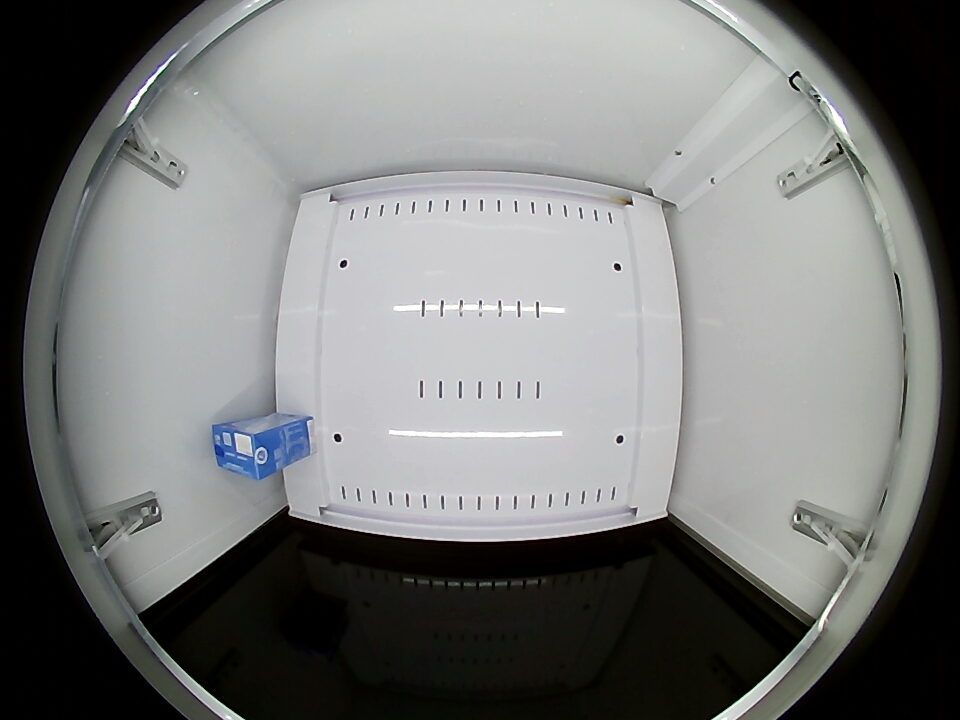weitanai: (212, 420, 280, 480)
